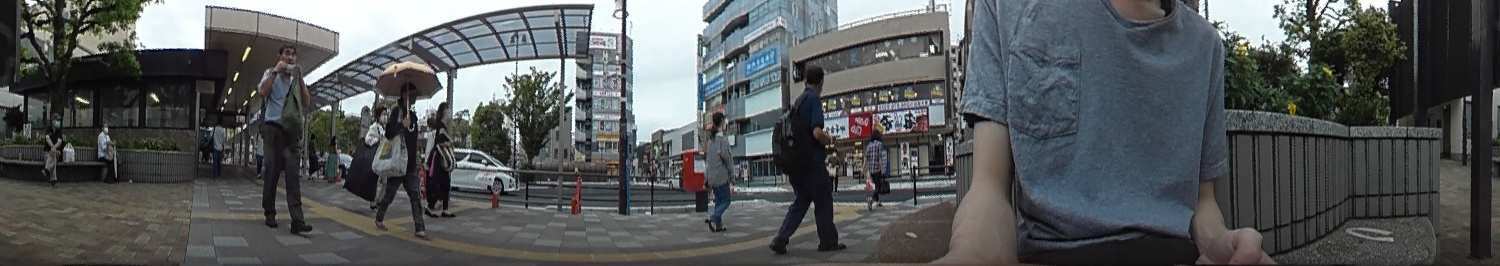difficult_person: (207, 116, 225, 171), (322, 133, 341, 180), (253, 123, 265, 177), (305, 133, 320, 173), (826, 149, 838, 188)
person: (767, 60, 852, 256), (254, 37, 316, 236), (380, 72, 430, 237), (423, 102, 456, 216), (705, 111, 735, 231), (357, 106, 389, 203), (39, 108, 69, 182), (863, 130, 886, 207), (94, 121, 116, 181)
